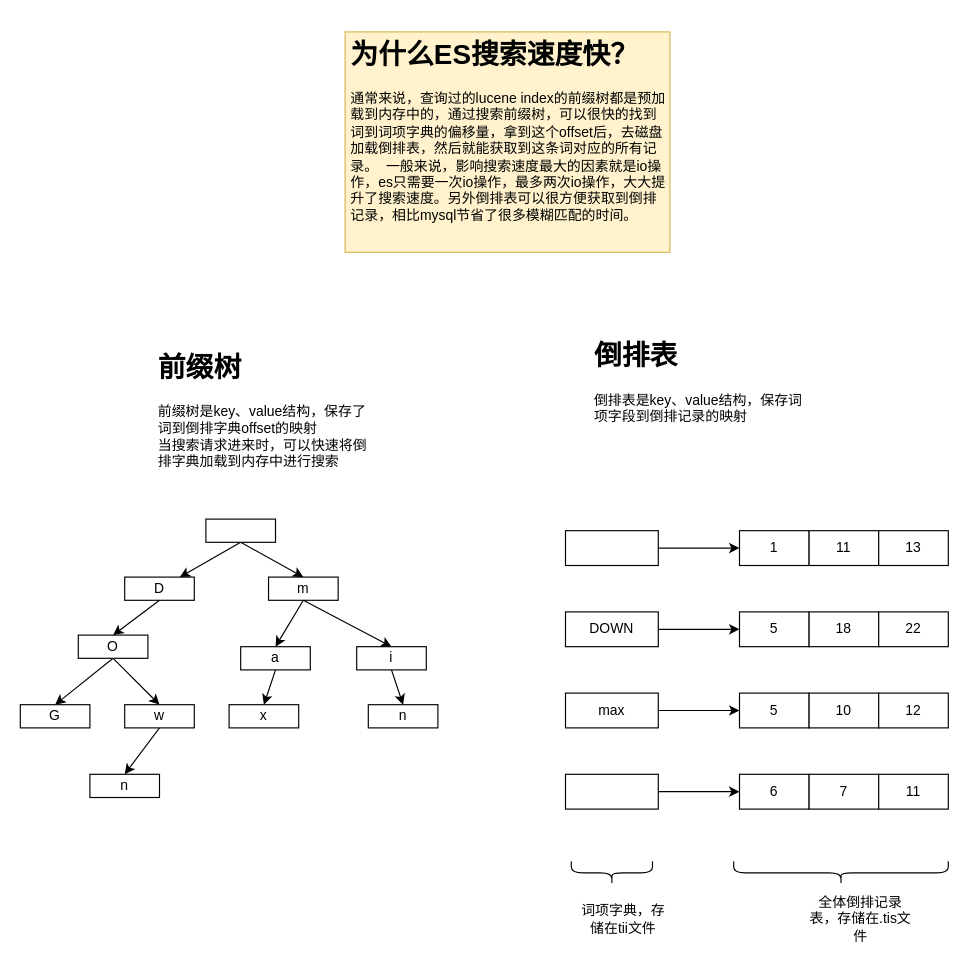
The diagram is 969 pixels wide and 964 high, and some of its shapes have lost their labels. Here are the shapes that lost their labels. From the top down, the centre of each, then its label:
the point at 611,548: DOG
the point at 611,791: min
